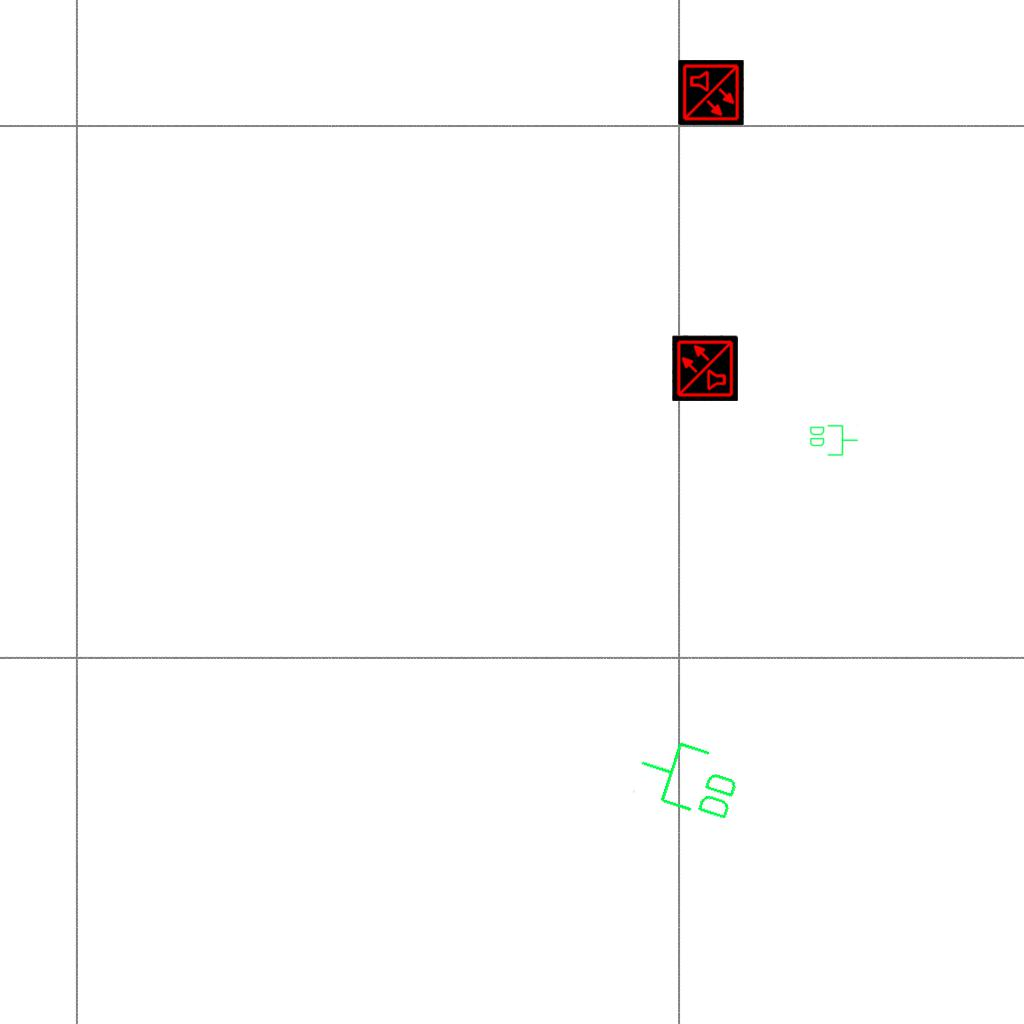Datenanschluss_zweifach: (628, 729, 749, 828), (808, 423, 859, 457)
OKW_Multisensormelder_(Kombination_optischer_Rauch-Kahlenmonoxid_Waerme-Melder): (672, 335, 738, 401), (678, 60, 744, 126)
